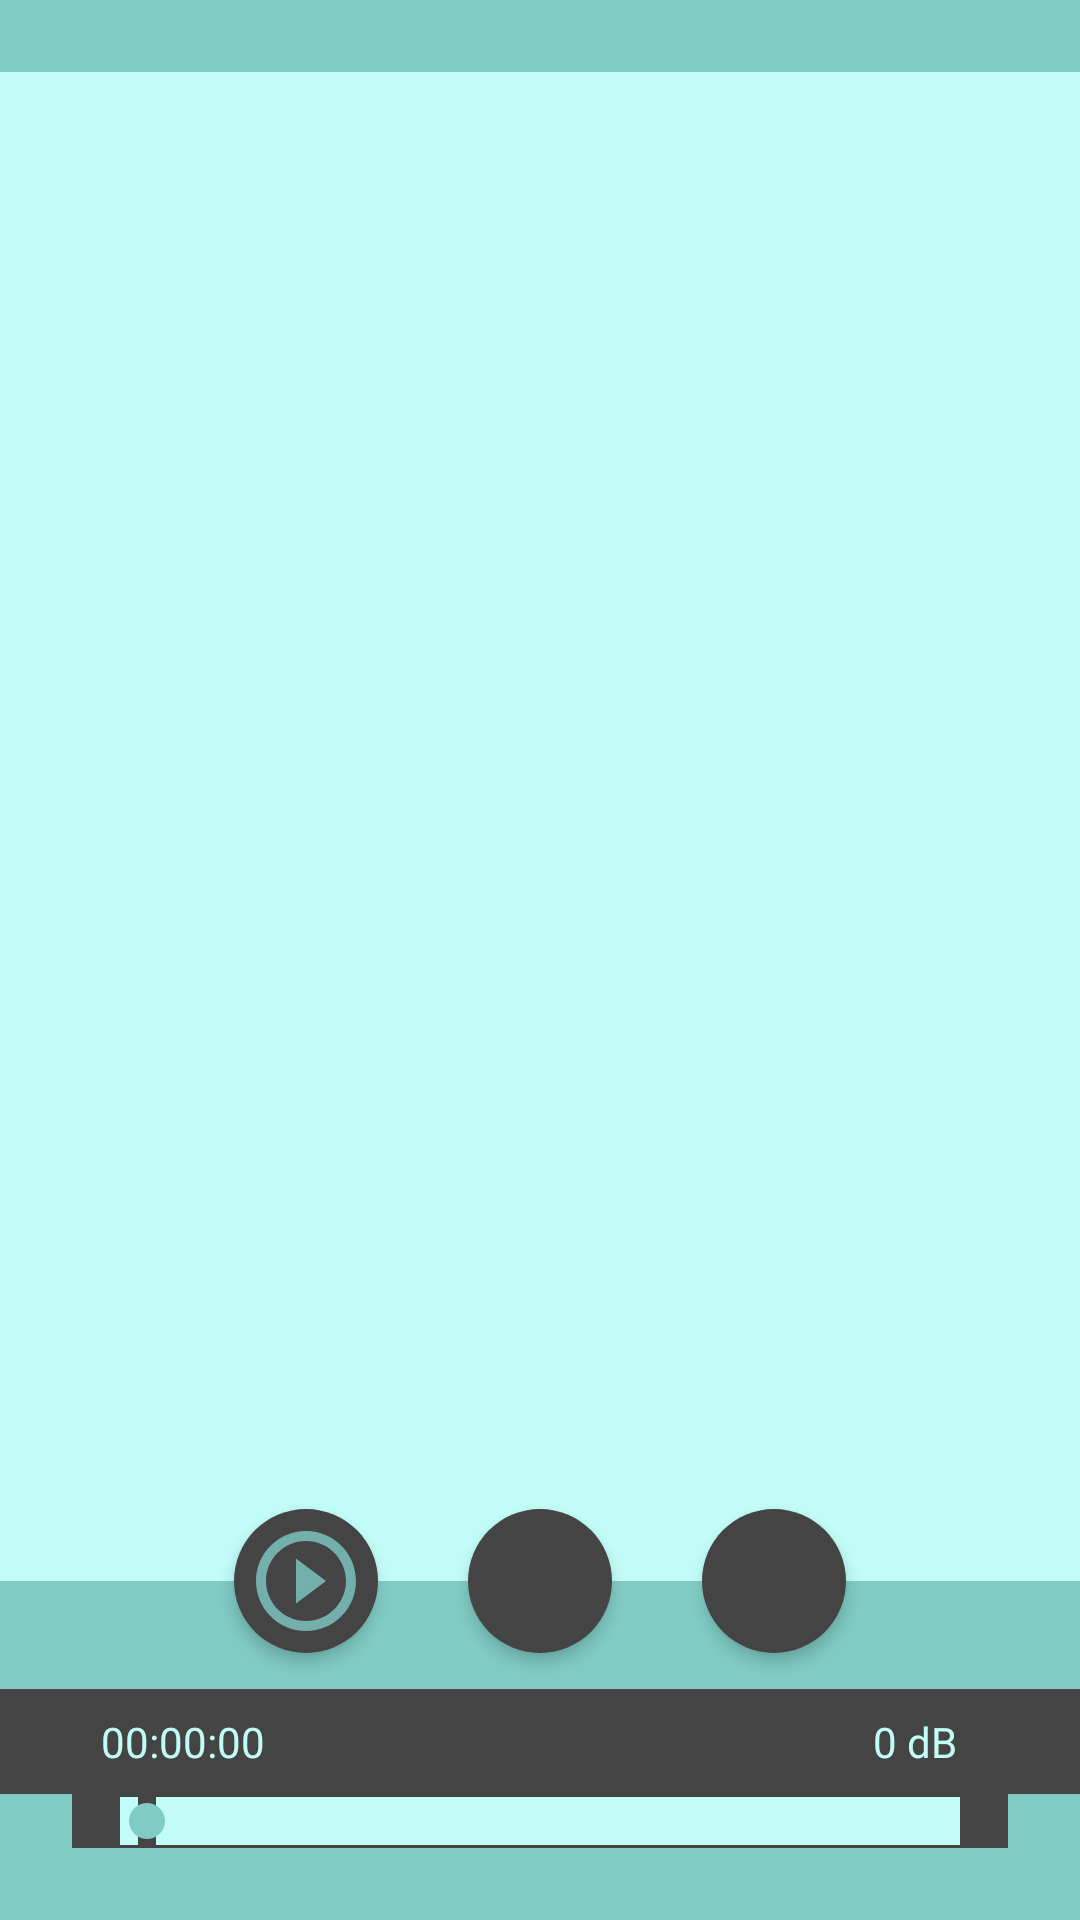

Icons on this 1080 x 1920 Android screen, each with the point to tap as (x,y):
start: (306,1581)
